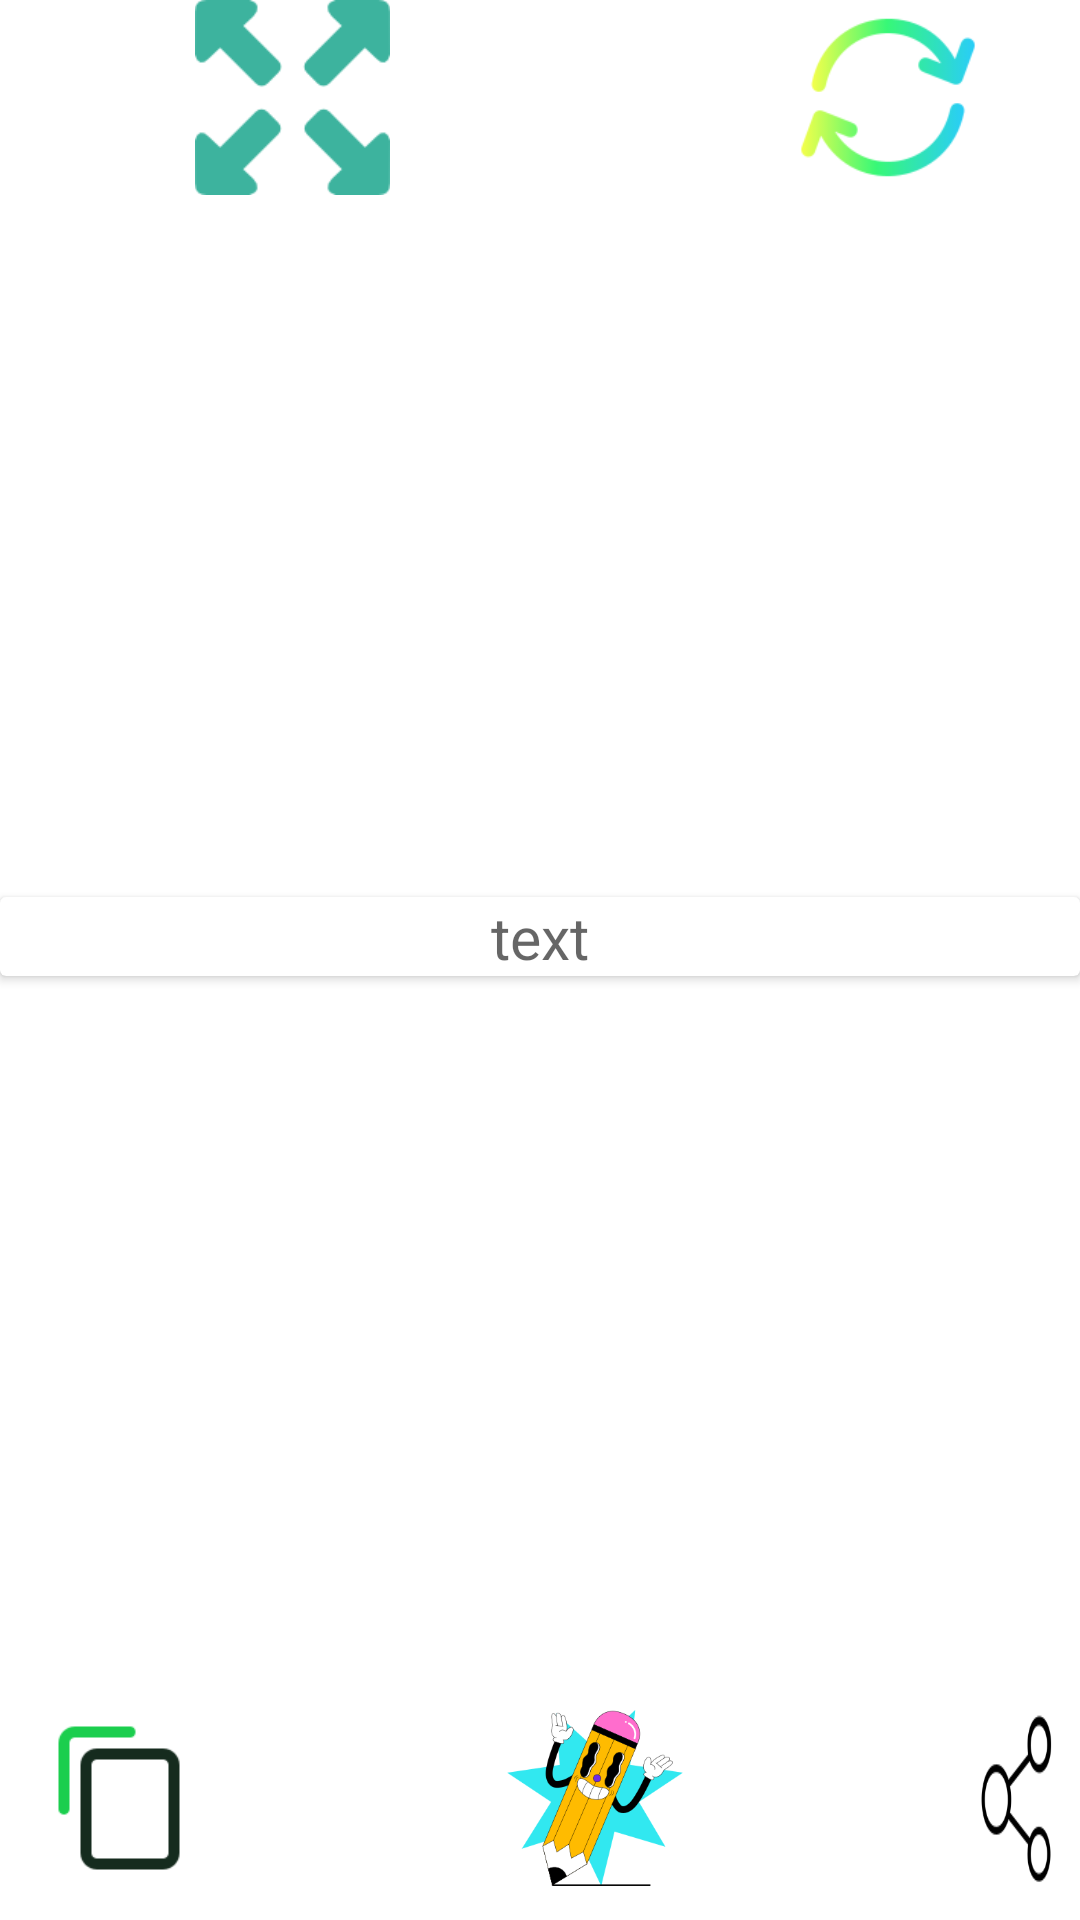

Where icons sit on this 1080px x 1920px app screen, as (x1, y1, x2, y2):
extend buttton: (195, 0, 390, 195)
share: (981, 1715, 1051, 1882)
